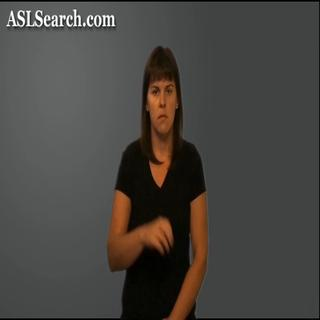yes: (137, 213, 174, 252)
